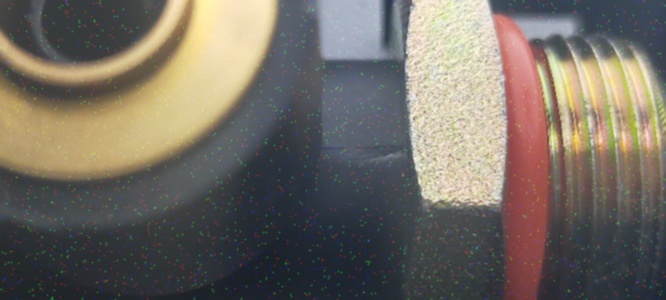joint line: (323, 141, 401, 149)
white mark: (349, 152, 407, 163)
